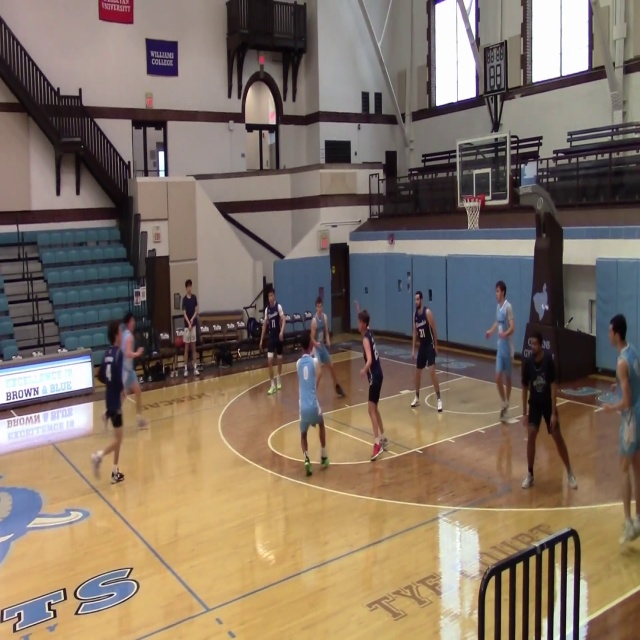Basketball: (174, 336, 183, 347), (258, 55, 265, 64)
